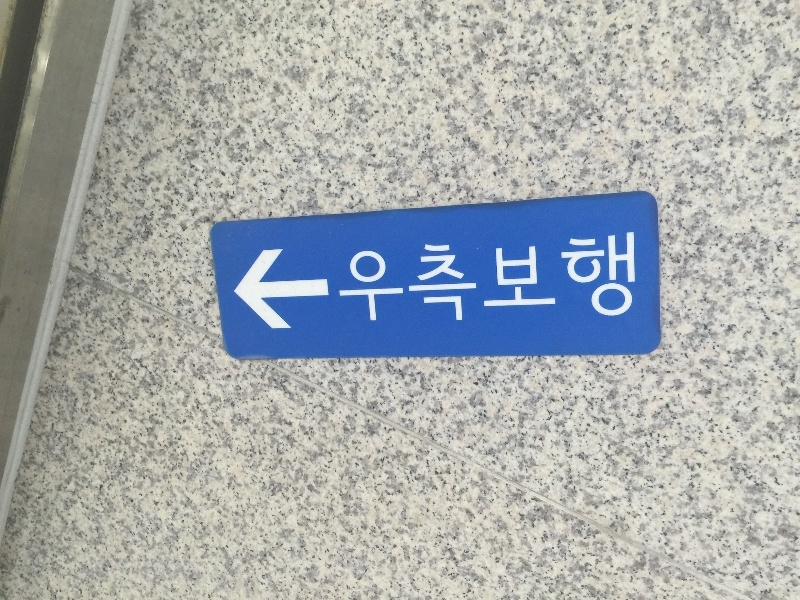text: (353, 232, 368, 327), (369, 232, 384, 327), (385, 232, 400, 327), (401, 232, 416, 327), (417, 232, 432, 327), (433, 232, 448, 327), (449, 232, 464, 327), (465, 232, 480, 327), (481, 232, 496, 327), (497, 232, 512, 327), (513, 232, 528, 327), (529, 232, 544, 327), (545, 232, 560, 327), (561, 232, 576, 327), (577, 232, 592, 327), (593, 232, 608, 327), (609, 232, 624, 327), (625, 232, 640, 327), (338, 232, 352, 327)
